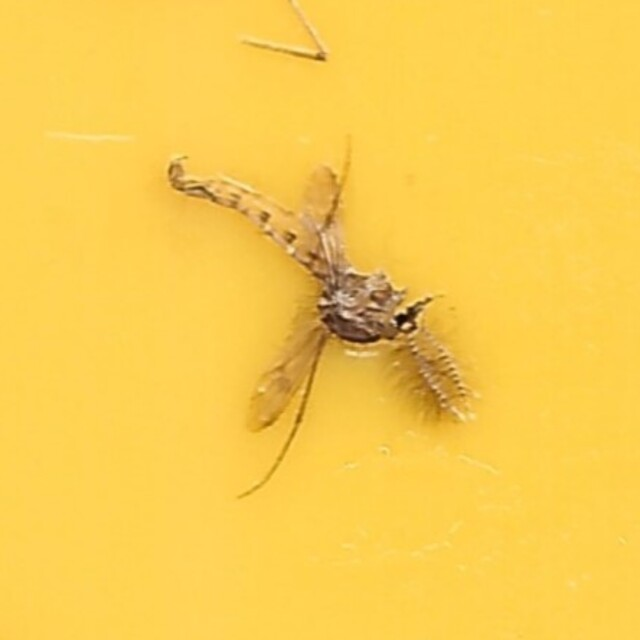Nematocera: (144, 146, 496, 494)
